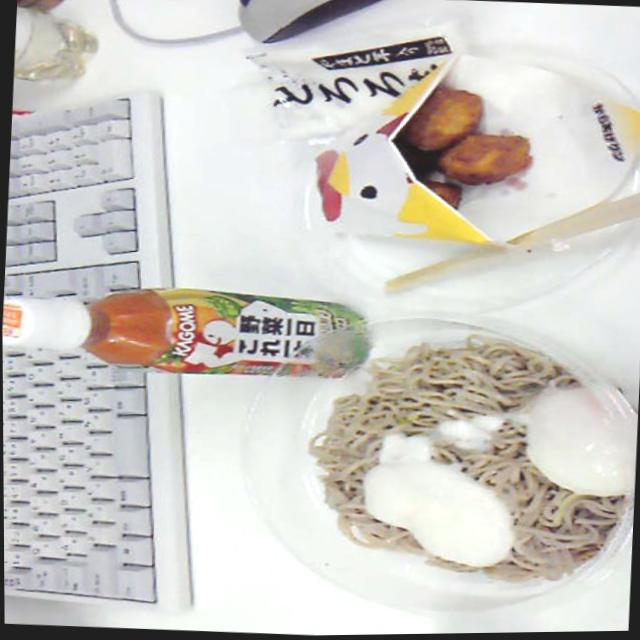面条主食: (234, 299, 640, 626)
鸡肉料理 含炸鸡: (386, 82, 543, 215)
